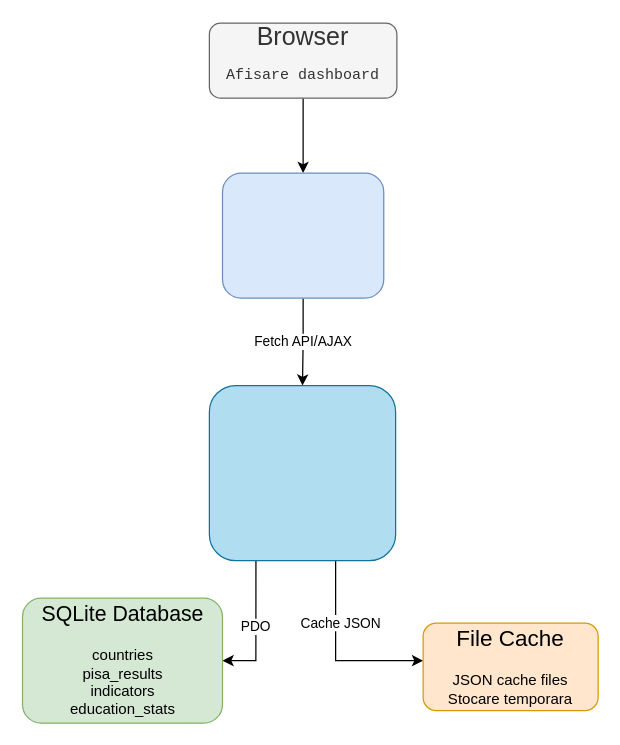
The diagram is 620 pixels wide and 745 high, and some of its shapes have lost their labels. The centre of each missing label's shape, as x and y in pixels:
Frontend HTML5 CSS3 Vanilla JavaScript: point 302,235
PHP Web Services countries.php pisa.php compare.php education.php export.php: point 302,472
